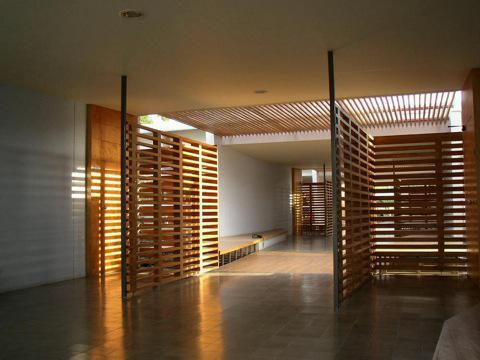Puerta: (89, 115, 136, 273)
